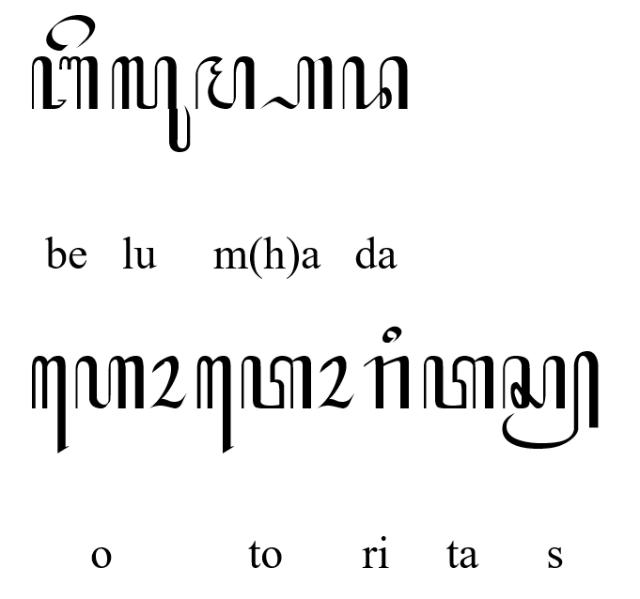-s: (501, 350, 601, 450)
_h: (260, 55, 334, 109)
b: (30, 56, 100, 110)
d: (342, 56, 408, 110)
e: (46, 14, 96, 52)
e1: (30, 354, 70, 456), (196, 355, 234, 455)
h: (74, 355, 146, 409)
i: (382, 325, 402, 344)
lu: (110, 54, 192, 154)
m: (194, 54, 256, 112)
o: (318, 354, 354, 408), (152, 354, 186, 410)
r: (363, 356, 411, 410)
t: (238, 356, 314, 410), (422, 356, 494, 410)
